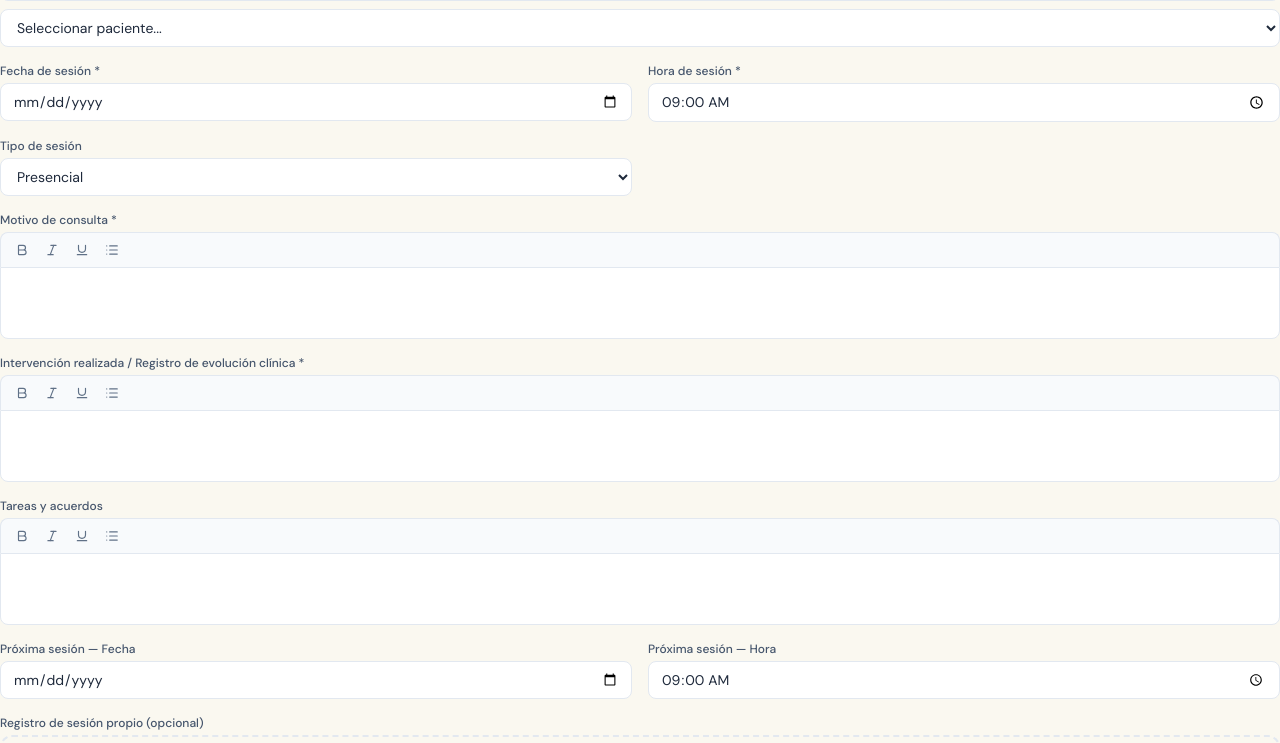
Test: ConsultationForm — validación de horas › una hora de sesión inválida muestra el mensaje y no envía
Select "Paciente de Prueba — 11111111-1" in the dropdown labelled "Paciente *": (640, 28) [0,9,1279,47]
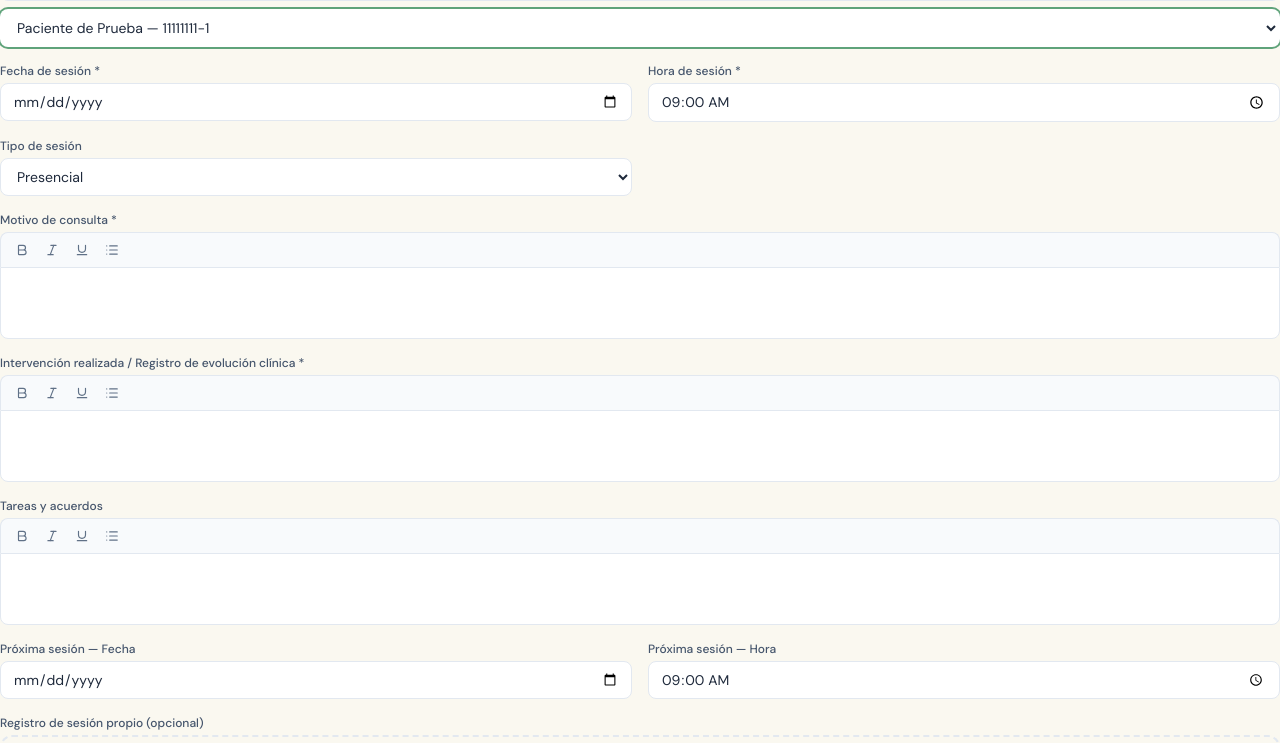
In the date field labelled "Fecha de sesión *": (316, 102) [0,83,632,121], type "2026-10-05"
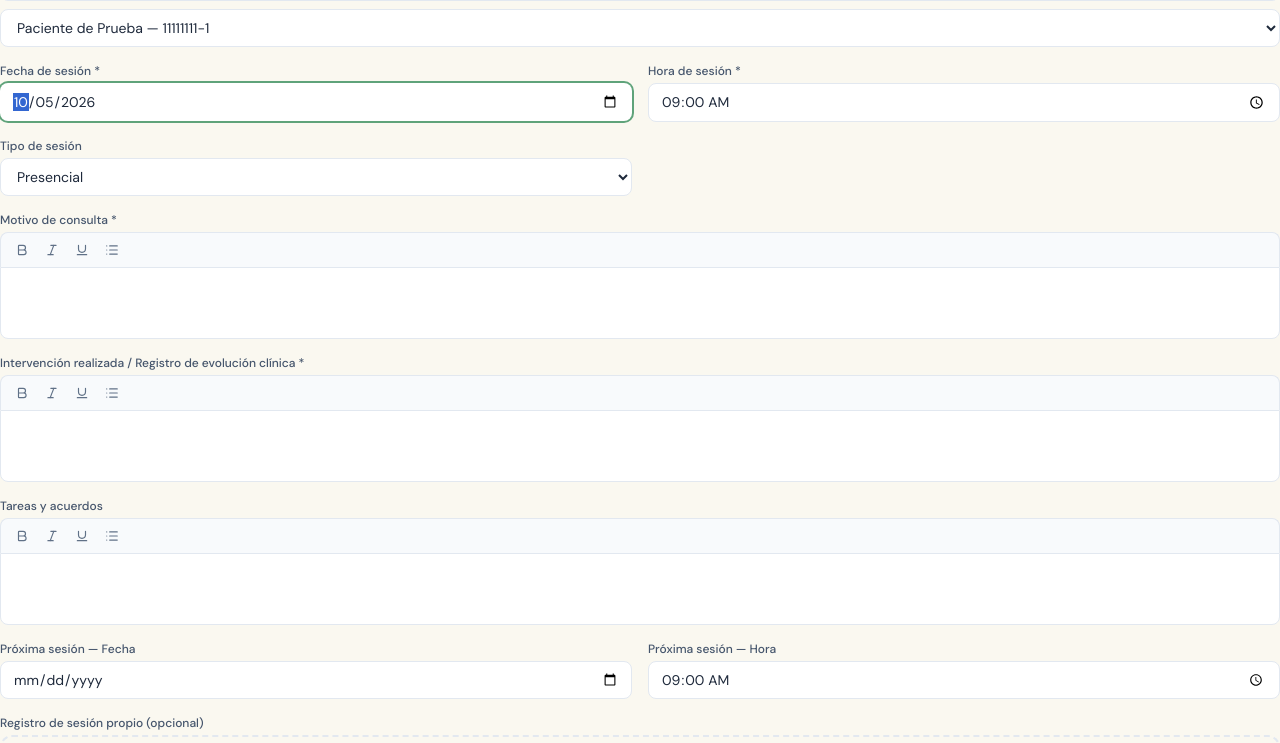
In the field named "Motivo de consulta": (640, 303) [0,267,1279,339], type "Ansiedad"
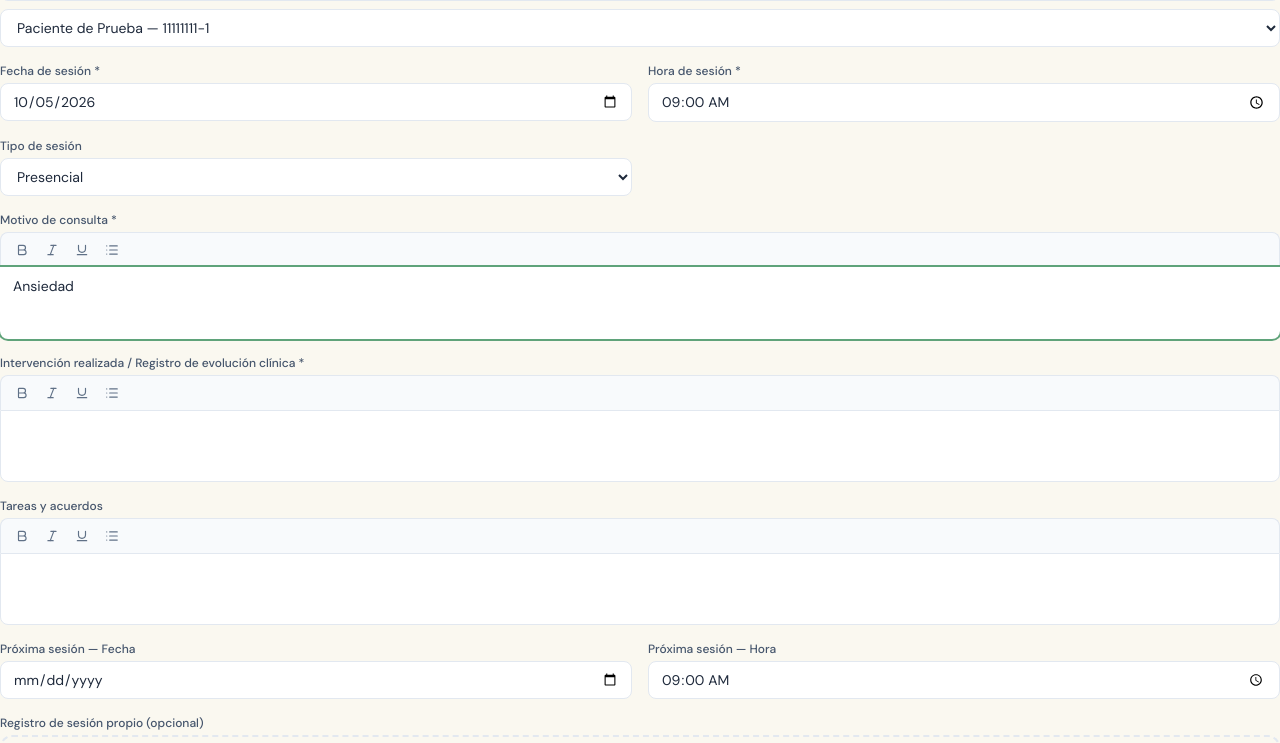
In the field named "Intervención realizada / Registro de evolución clínica": (640, 446) [0,410,1279,482], type "Respiración"
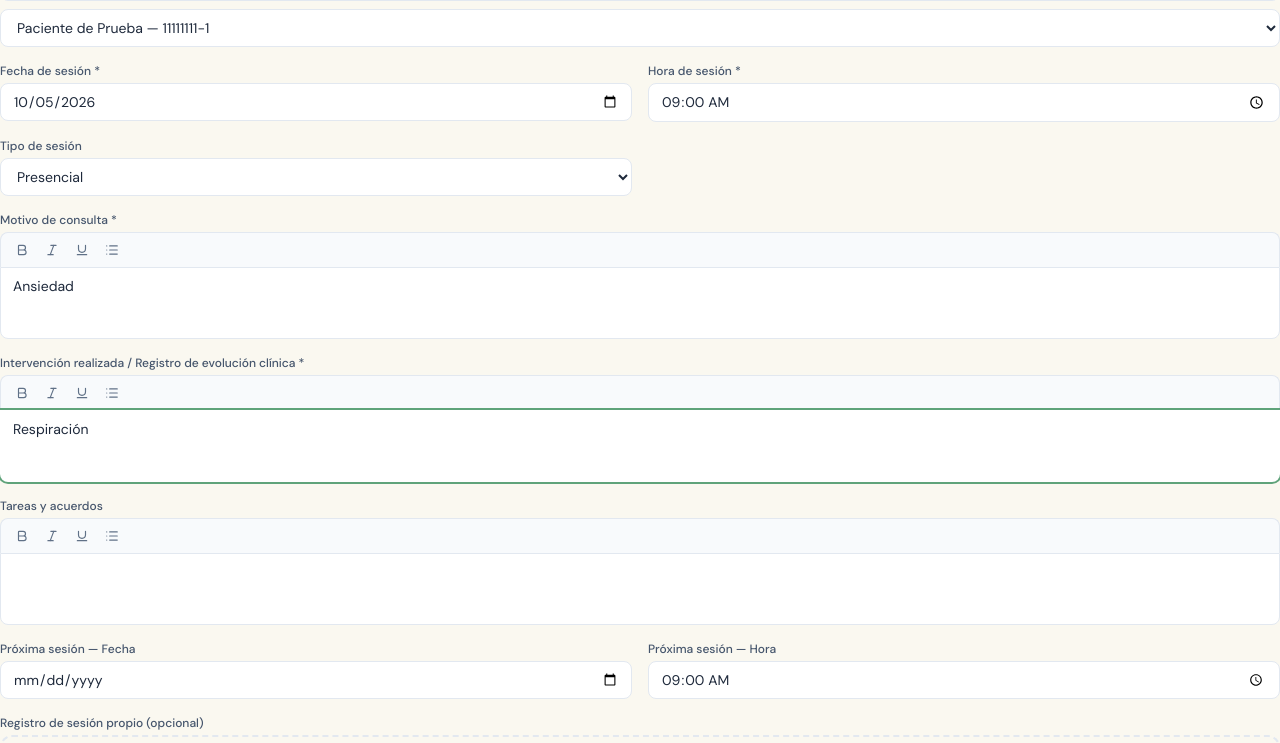
Clear the time field labelled "Hora de sesión *": (964, 102) [648,83,1279,122]
(page scrolled)
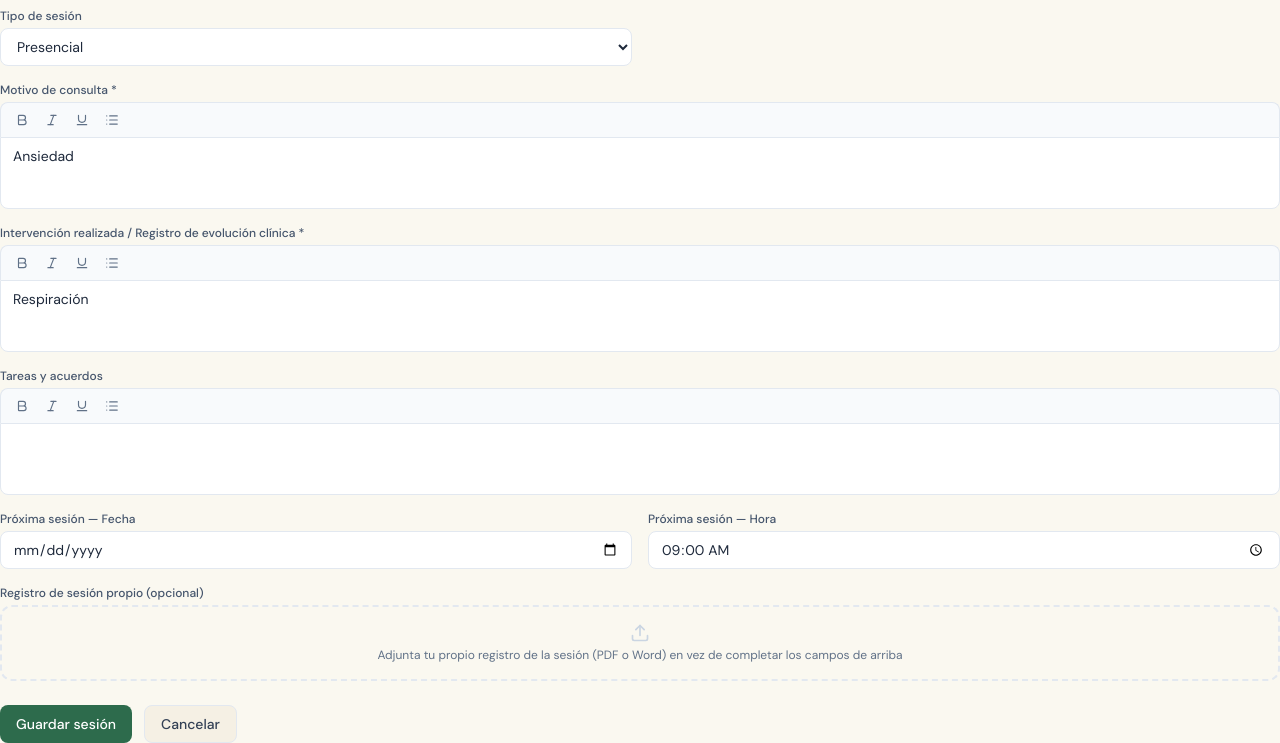
Click the button "Guardar sesión": (66, 724) [0,705,132,742]
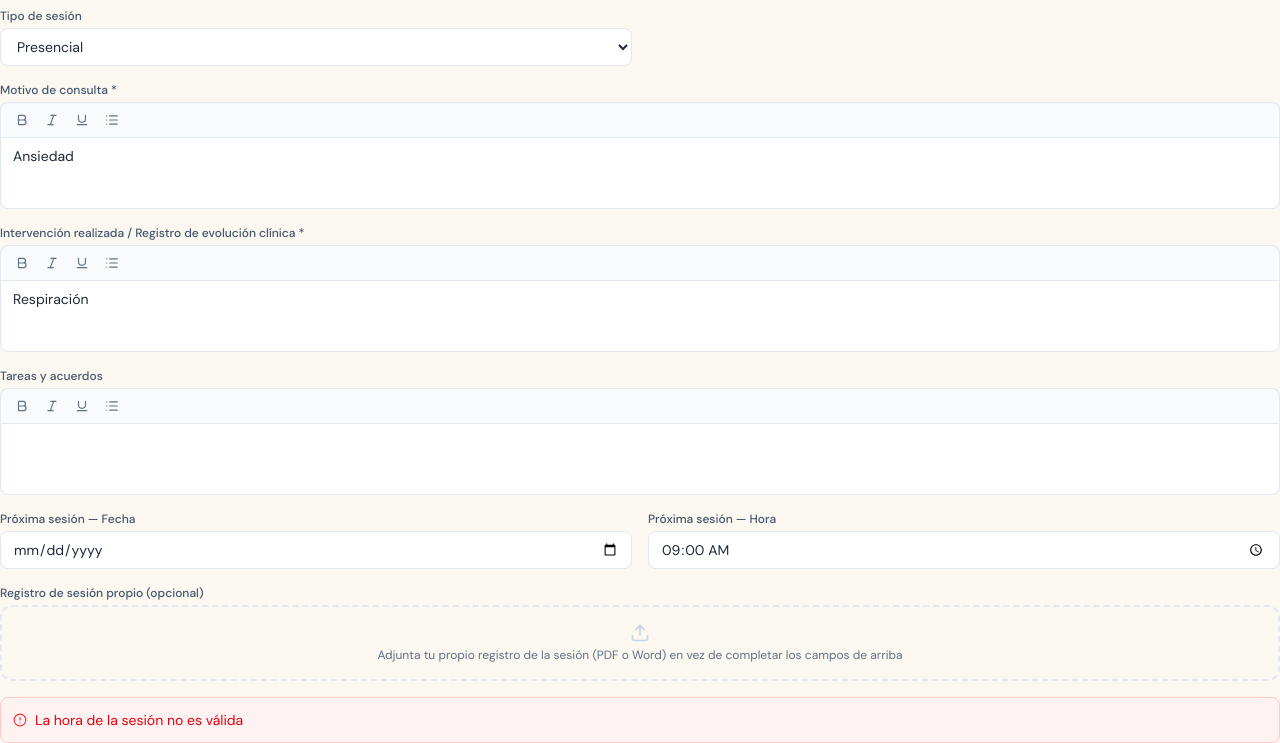
Expected: the text "La hora de la sesión no es válida" is shown, [35,710,243,730]
